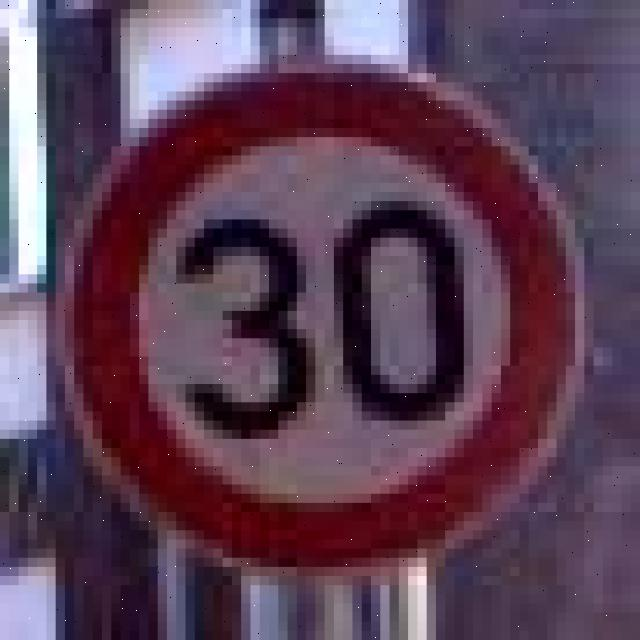speed limit 30: (56, 60, 584, 572)
